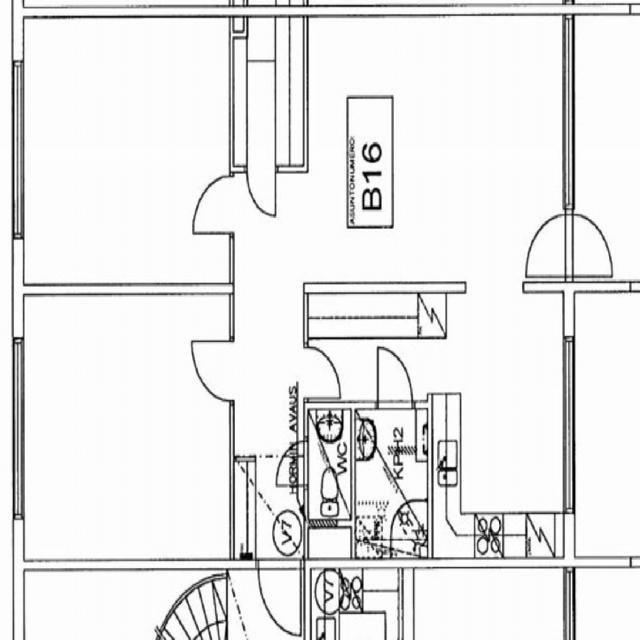door: (258, 557, 300, 633), (562, 214, 613, 276), (523, 214, 573, 276), (192, 341, 234, 400), (193, 175, 234, 232), (377, 347, 412, 408), (304, 348, 340, 398), (274, 440, 308, 485), (247, 165, 274, 216)
